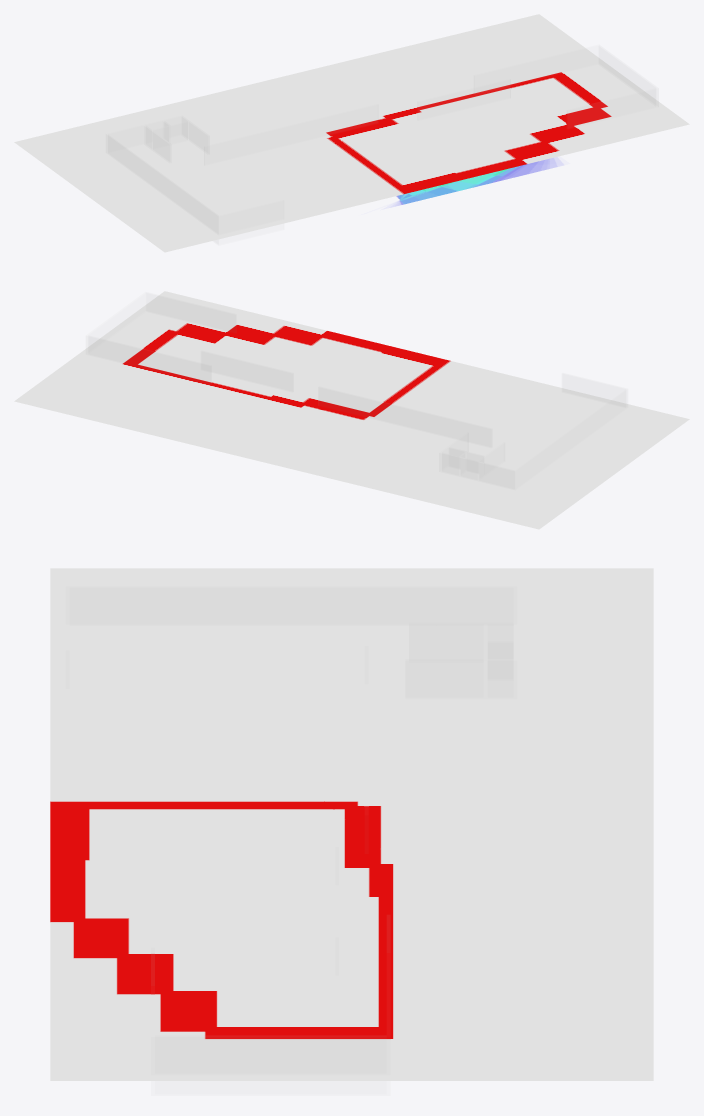
The picture shows the model from 3 angles, top to bottom: view 1: azimuth 30°, elevation 25°; view 2: azimuth 150°, elevation 25°; view 3: azimuth 270°, elevation 25°; orthographic projection. The views are drawn at different scales.
Parts seen in each view (by area): view 1: heatmap_2_balpav_max2.001, heatmap_2_balpav_color2, Mesh_3; view 2: heatmap_2_balpav_max2.001, Mesh_3; view 3: heatmap_2_balpav_max2.001, Mesh_3.
Boxes of the visible parts, left/top/right/bottom form: heatmap_2_balpav_max2.001: left=14, top=14, right=689, bottom=252; heatmap_2_balpav_color2: left=396, top=158, right=556, bottom=204; Mesh_3: left=108, top=121, right=187, bottom=152; heatmap_2_balpav_max2.001: left=14, top=291, right=689, bottom=529; Mesh_3: left=442, top=390, right=625, bottom=478; heatmap_2_balpav_max2.001: left=50, top=568, right=653, bottom=1080; Mesh_3: left=409, top=623, right=513, bottom=679.
Bounding box in the file's own units: 2.01 × 0.108 × 1.
6 materials, 2 textured.
